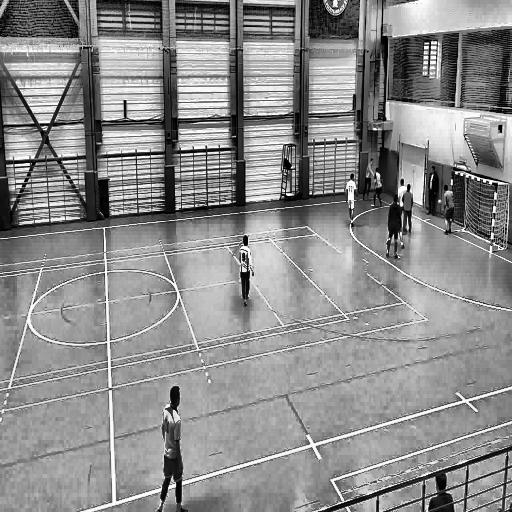ball: (438, 196, 444, 208)
player: (157, 383, 188, 512), (238, 234, 256, 310), (388, 194, 401, 264), (345, 172, 358, 230), (425, 164, 438, 218), (443, 182, 455, 238), (402, 184, 414, 235), (362, 156, 375, 201), (372, 167, 384, 207), (399, 176, 406, 234)
